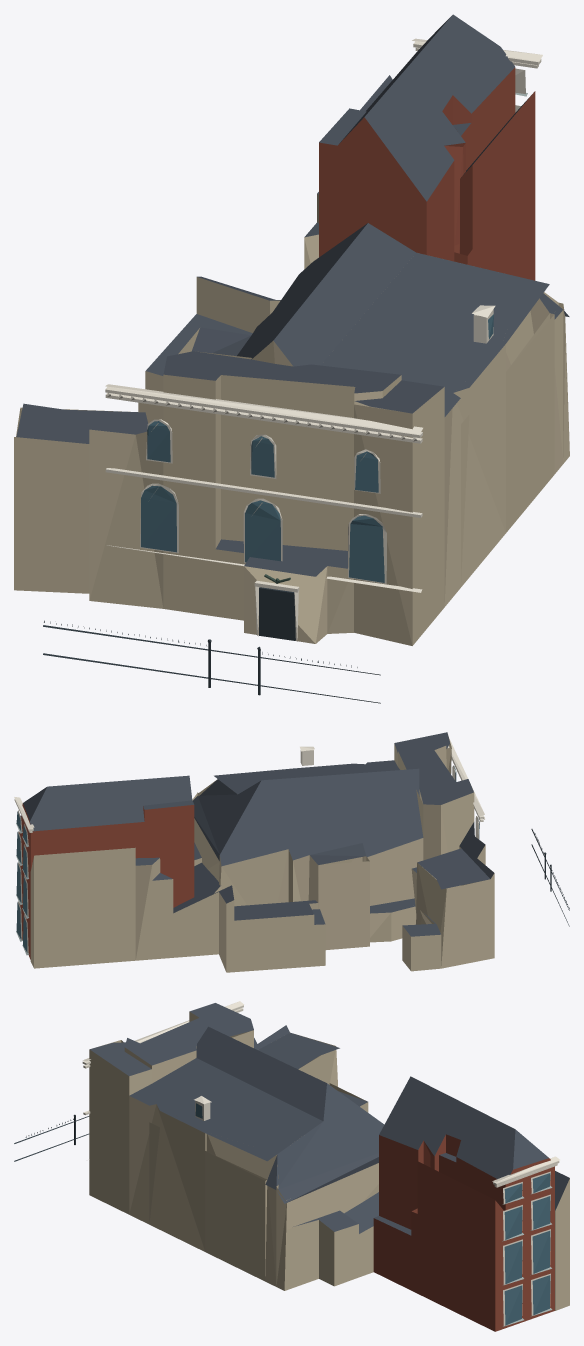
File: singelkerk.lod1.glb
3 renders of one model, top to bottom at view 1: azimuth 30°, elevation 25°; view 2: azimuth 150°, elevation 25°; view 3: azimuth 270°, elevation 25°, orthographic. The views are drawn at different scales.
Visible parts, largest first — view 1: singelkerk; view 2: singelkerk; view 3: singelkerk.
Boxes of the visible parts, left/top/right/bottom form: singelkerk: left=14, top=14, right=569, bottom=703; singelkerk: left=14, top=732, right=569, bottom=972; singelkerk: left=14, top=1001, right=569, bottom=1331.
Size of the model in its own units: 54.31 by 20.14 by 55.58.
